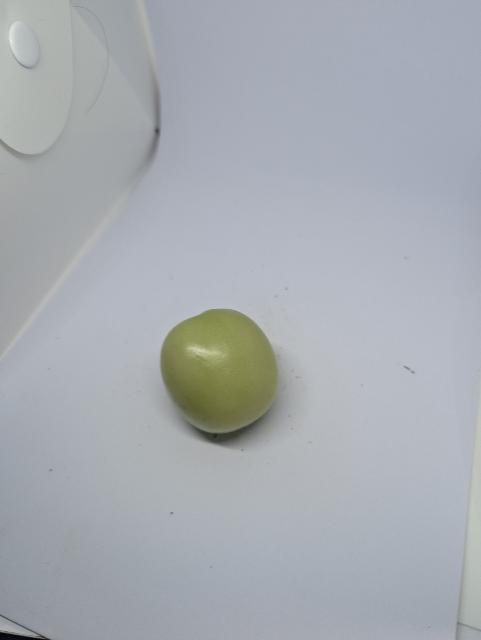green: (157, 305, 281, 437)
